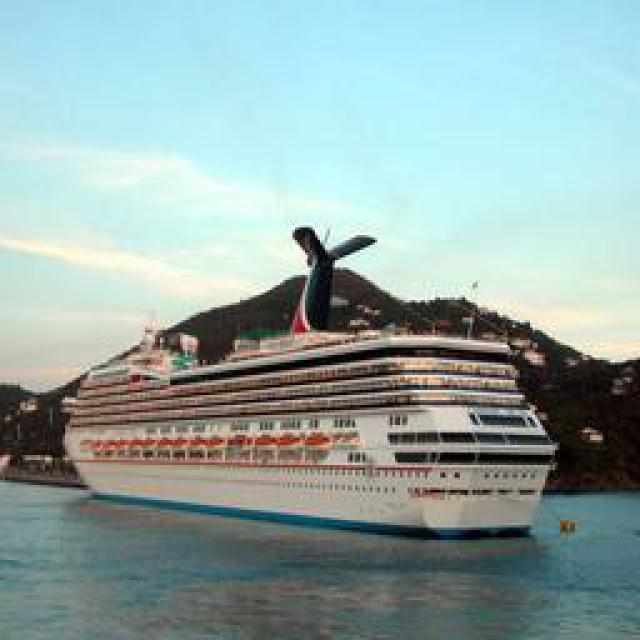Ship: (60, 266, 553, 544)
